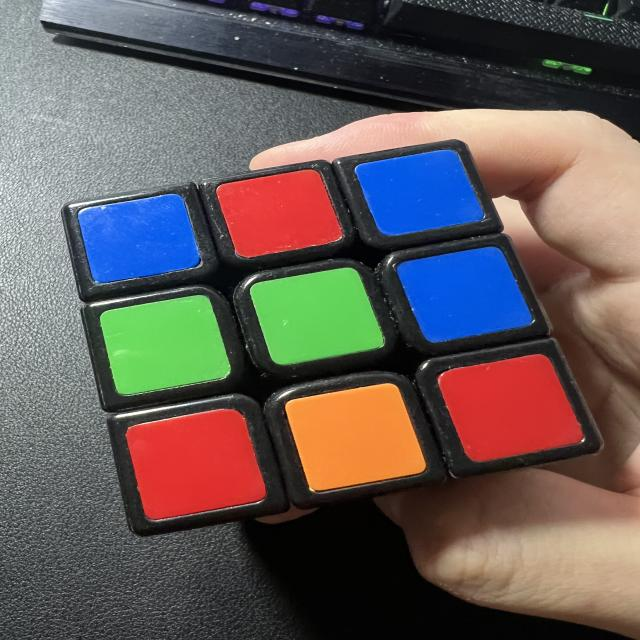blue: (393, 240, 534, 348), (354, 143, 485, 242), (76, 188, 202, 288)
center: (248, 261, 386, 370)
green: (248, 261, 386, 370), (98, 290, 233, 399)
orange: (284, 377, 428, 496)
red: (436, 346, 584, 468), (124, 402, 268, 524), (215, 164, 344, 262)
